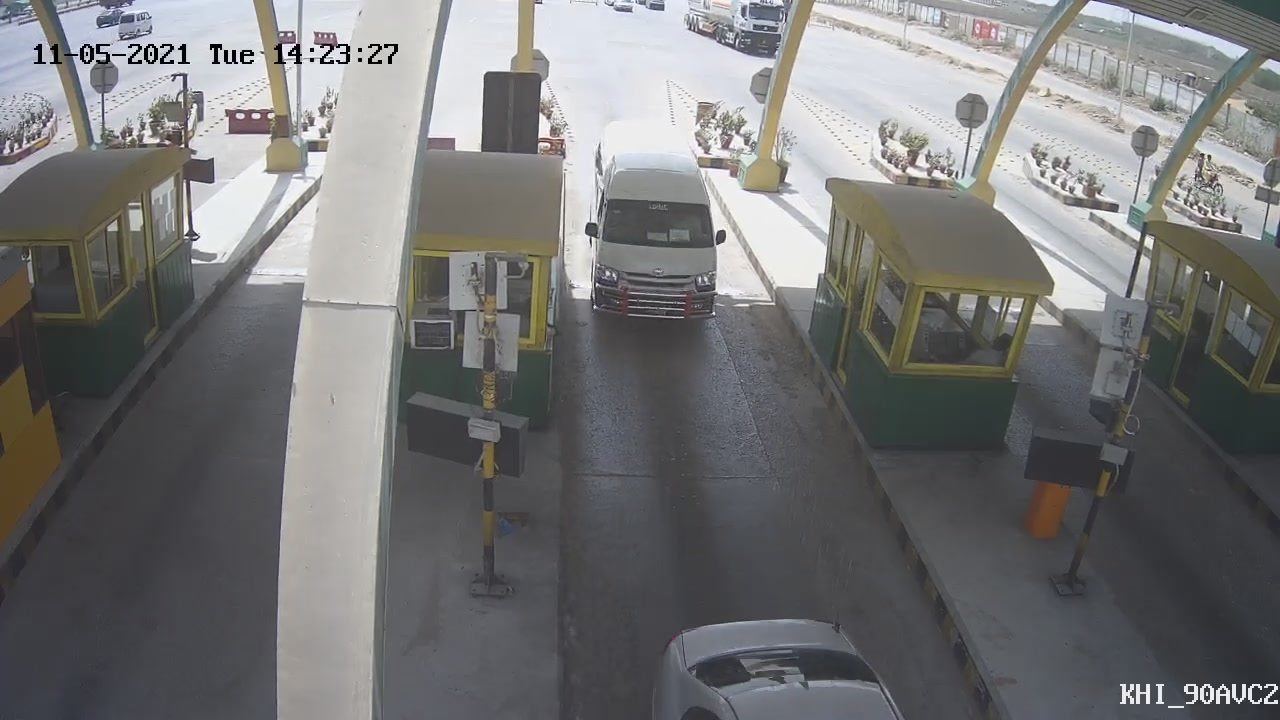F2: (591, 116, 728, 342)
